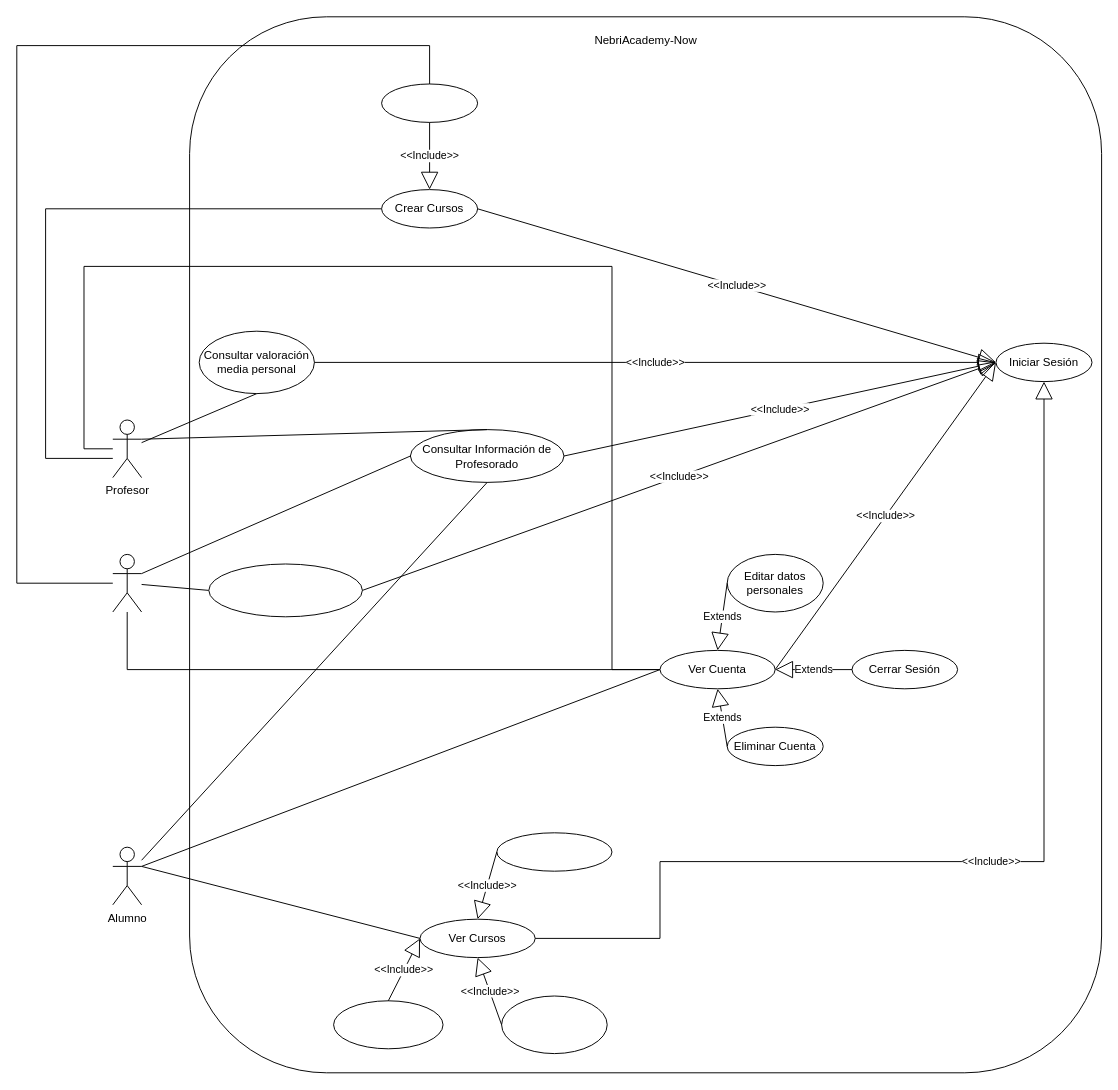
Some shapes in this 1118 by 1090 pixel diagram are drawn without their labels. Here are the shapes that lost their labels. From the top down, the centre of each, then its label:
point (429, 102): Editar Cursos
point (127, 582): Administrador
point (285, 590): Consultar Información de Alumnado
point (554, 851): Valorar Cursos
point (388, 1024): Ver Apuntes/Proyectos
point (554, 1024): Subir Apuntes/Proyectos
